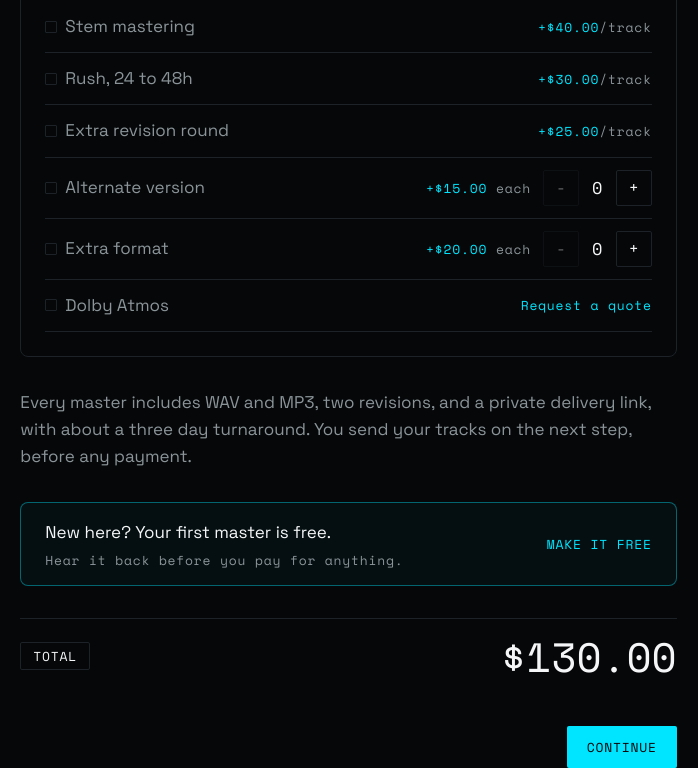
Test case: CheckoutFlow › pages Review -> Details -> Send your tracks, contact before files
(page scrolled)
Click the button "Continue": (622, 747) 567,726 -> 677,767
(page scrolled)
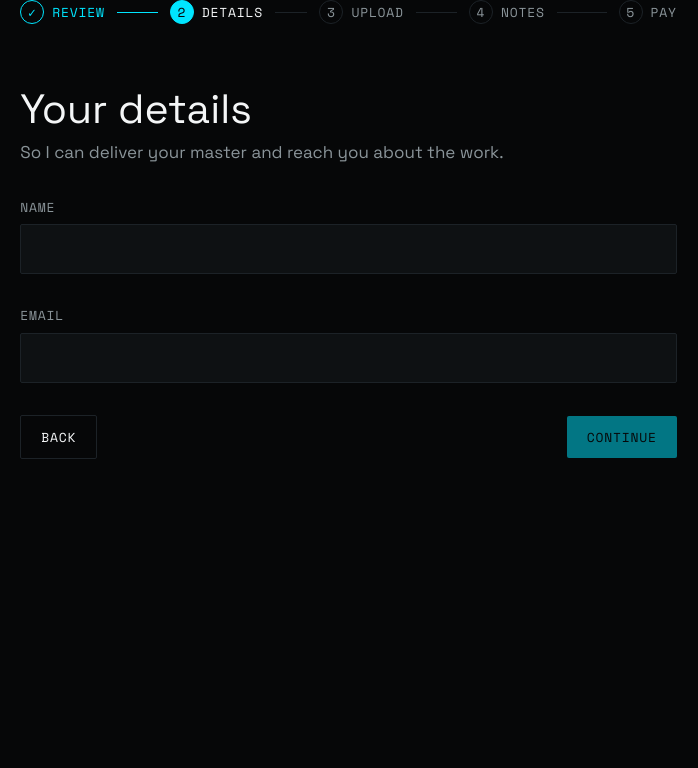
Result: the heading "Your details" is shown at 20,83 -> 252,135
In the field labelled "Name": (348, 249) 20,224 -> 677,274, type "Ada"
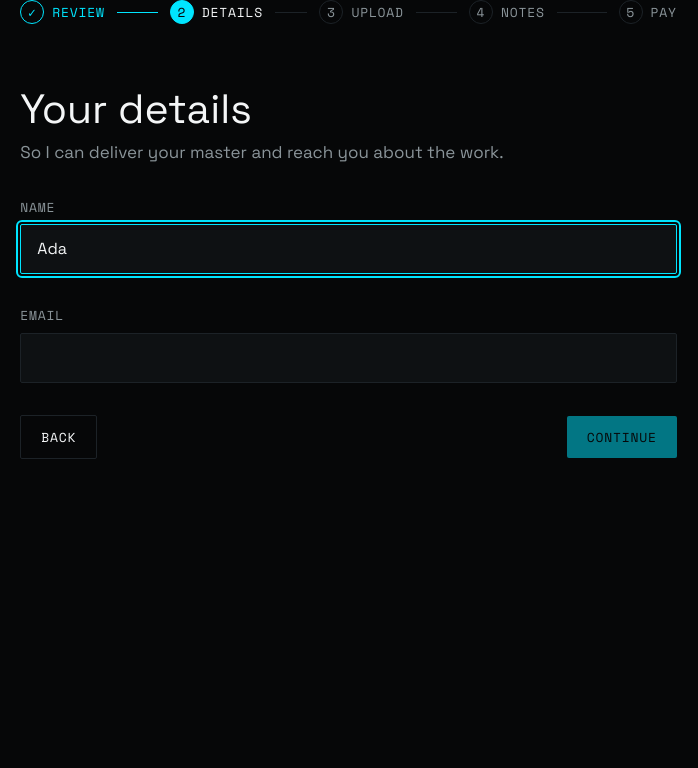
In the field labelled "Email": (348, 358) 20,333 -> 677,383, type "ada@studio.com"
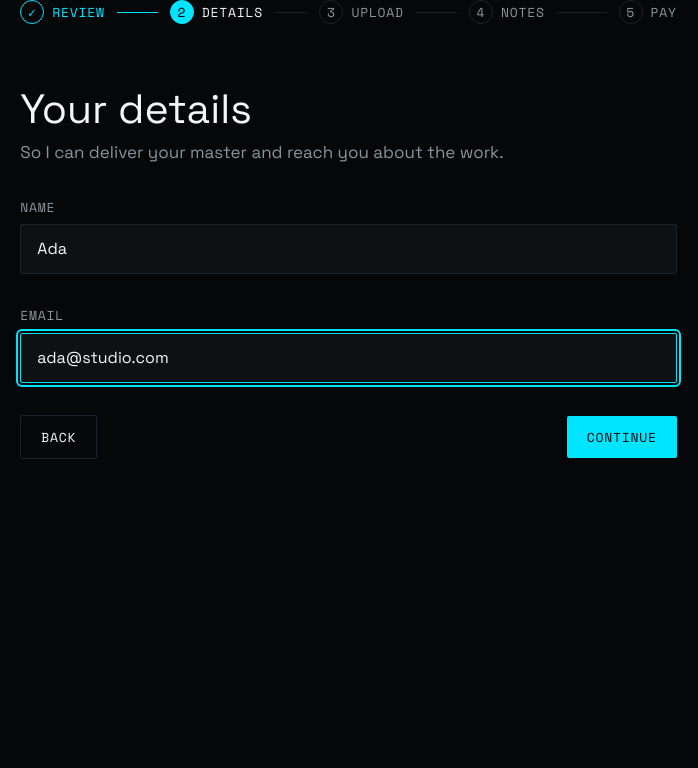
Click the button "Continue": (622, 437) 567,416 -> 677,458
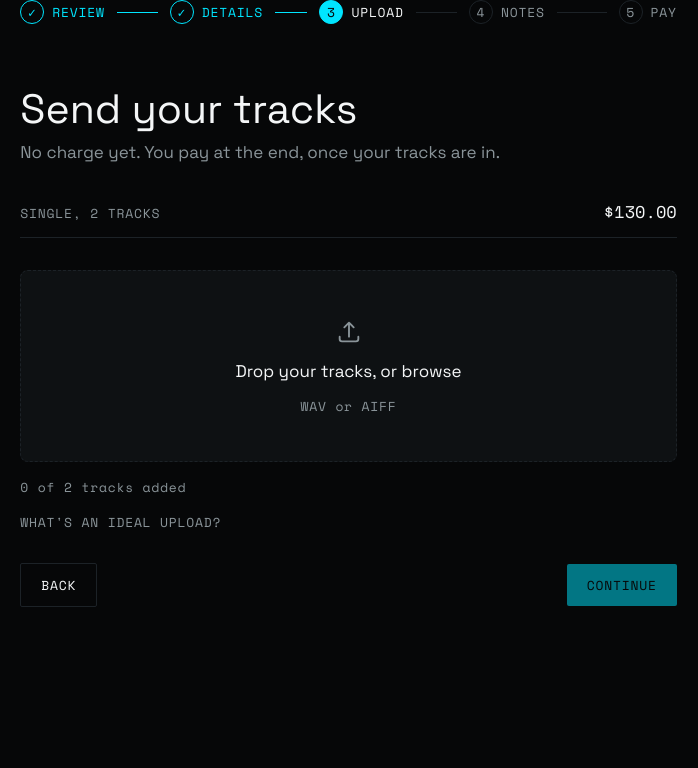
Result: the heading "Send your tracks" is shown at 20,83 -> 357,135
